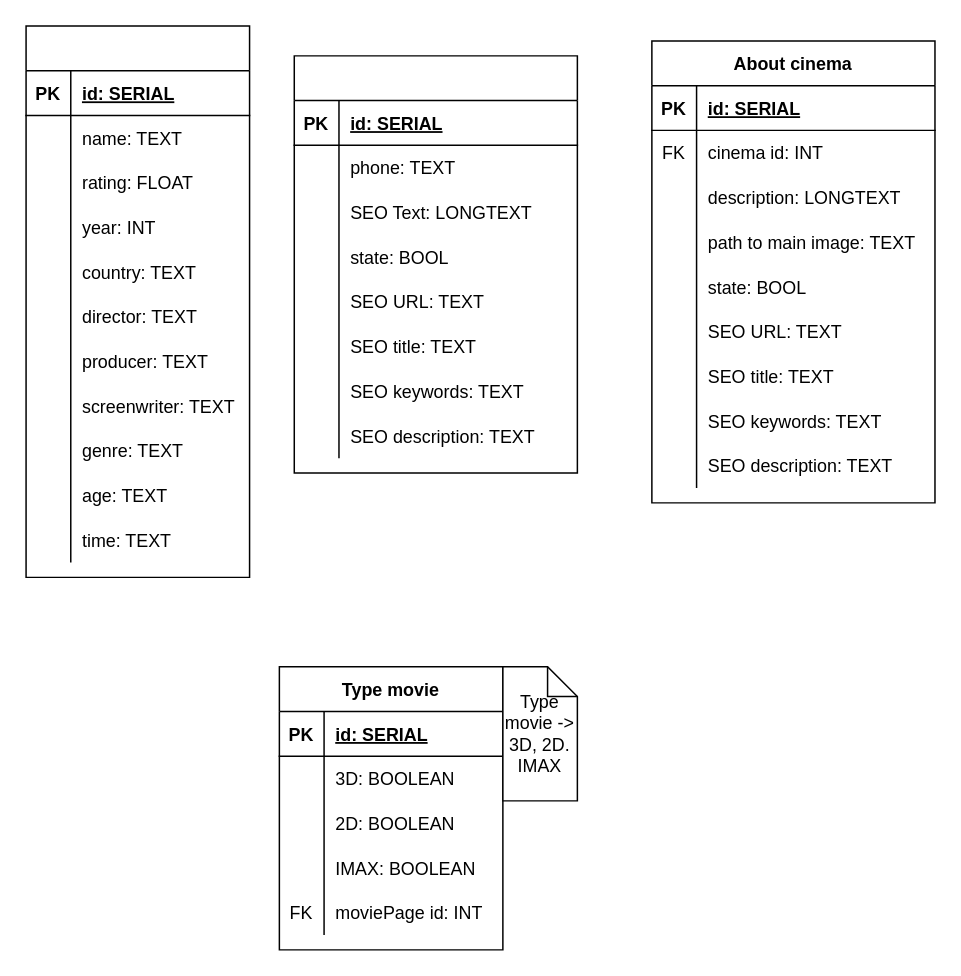
This 961x976 diagram has some shape labels left out. The shapes that lost their labels are listed below. From the top down, each one's box as (x1, y1, x2, y2) in pixels, then its label:
(293, 54, 577, 473): Main Page
(25, 25, 250, 577): Movie
